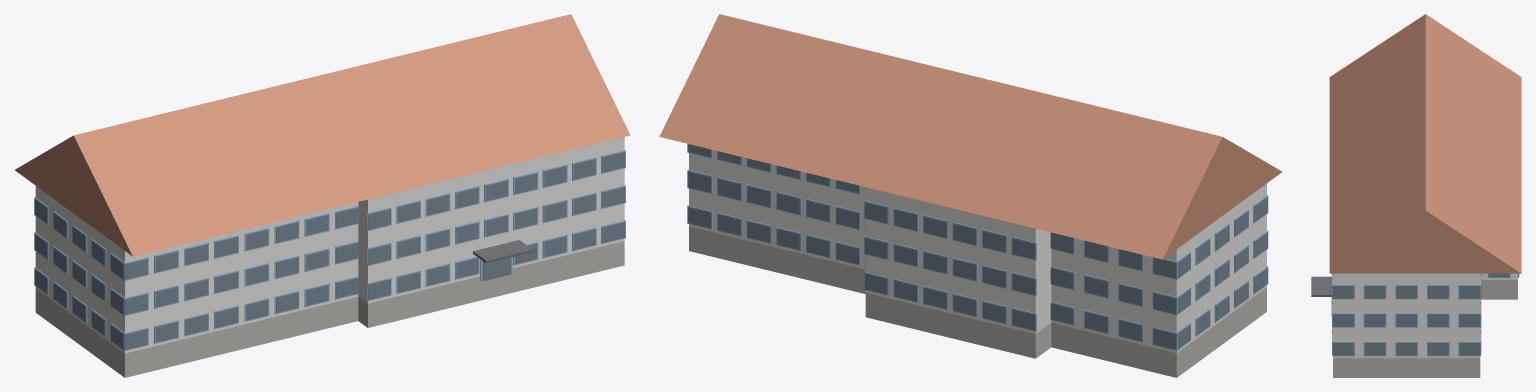
Rendered from kandern-bfa-2.glb.
3 views of the same model, side by side, from view 1: azimuth 30°, elevation 25°; view 2: azimuth 150°, elevation 25°; view 3: azimuth 270°, elevation 25° (orthographic). The views are drawn at different scales.
Parts seen in each view (by area): view 1: building; view 2: building; view 3: building.
Boxes of the visible parts, box(x1,y1,x2,y2) form: building: box(15, 14, 630, 377); building: box(659, 14, 1282, 377); building: box(1311, 14, 1521, 377).
Bounding box in the file's own units: 53.39 × 21.4 × 24.14.
